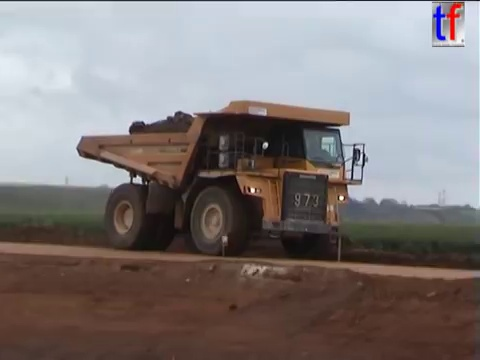truck: (75, 98, 371, 258)
